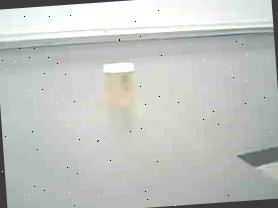Bottle B: (94, 56, 145, 115)
